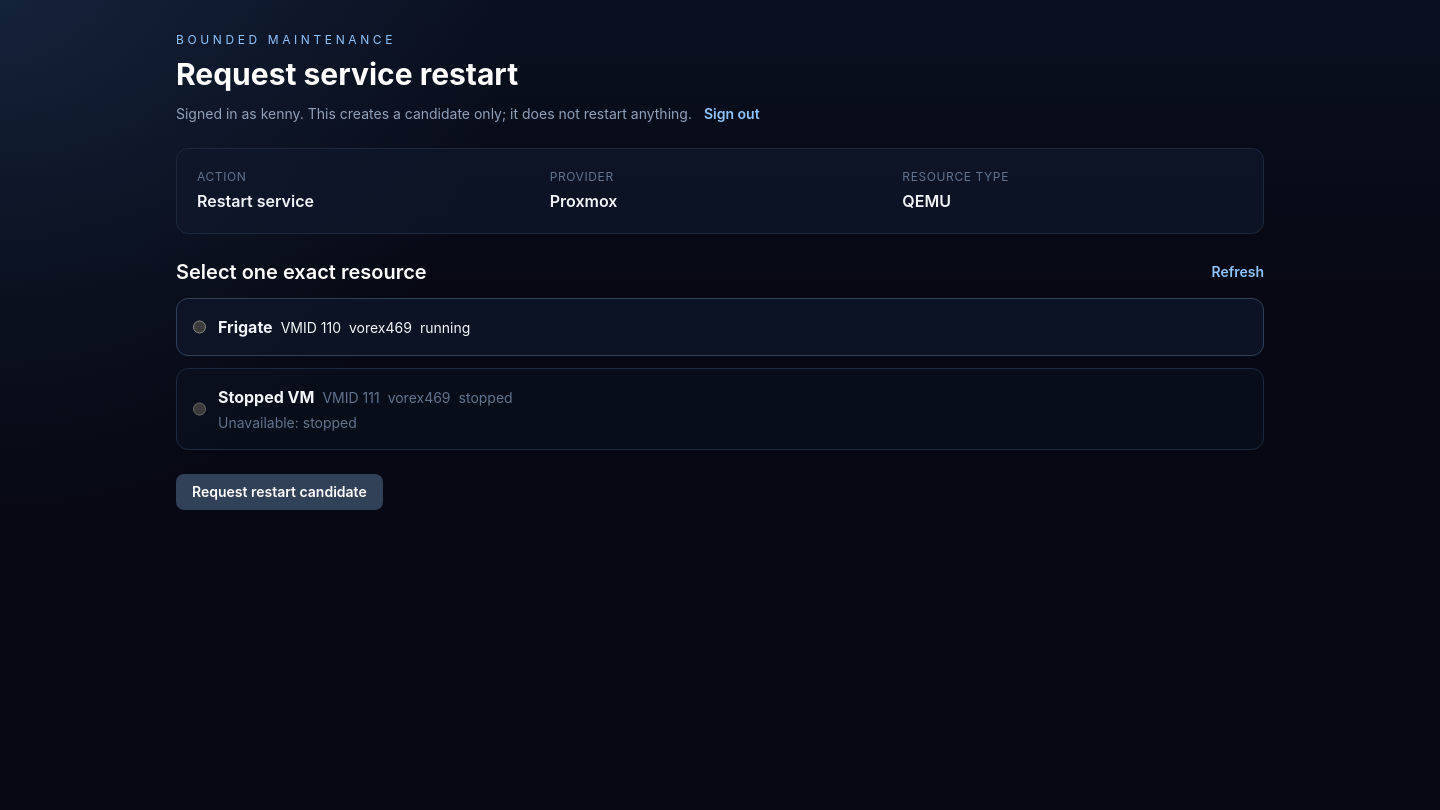
Test: MaintenanceRequestPage › renders controlled status 403 without automatic retry
What coordinates should you click on to do the following:
click the radio button labelled "Frigate"
I would click on:
 (200, 327)
Its box is [193,315,206,339].
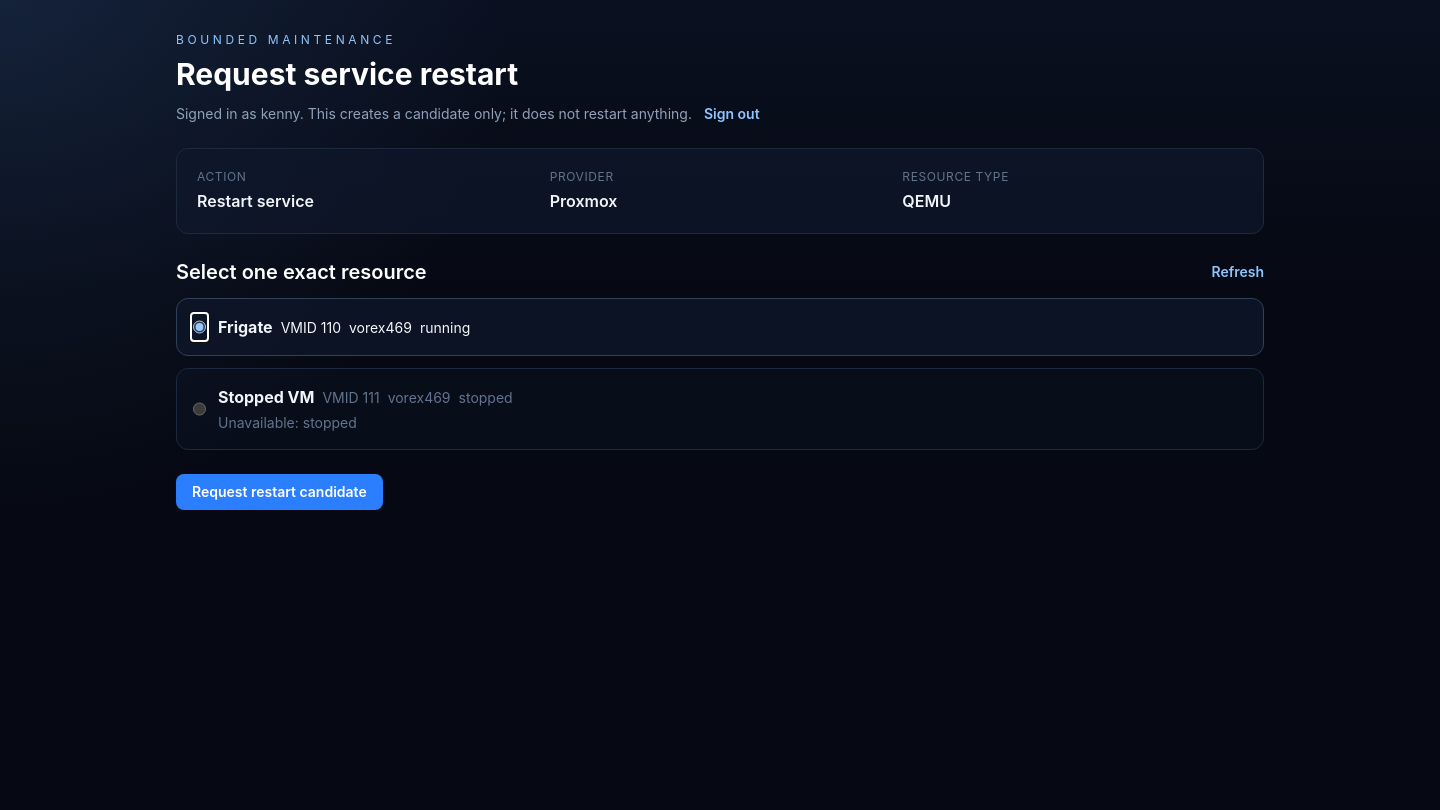
What coordinates should you click on to do the following:
click the button "Request restart candidate"
I would click on:
 (279, 492)
Its box is [176,474,383,510].
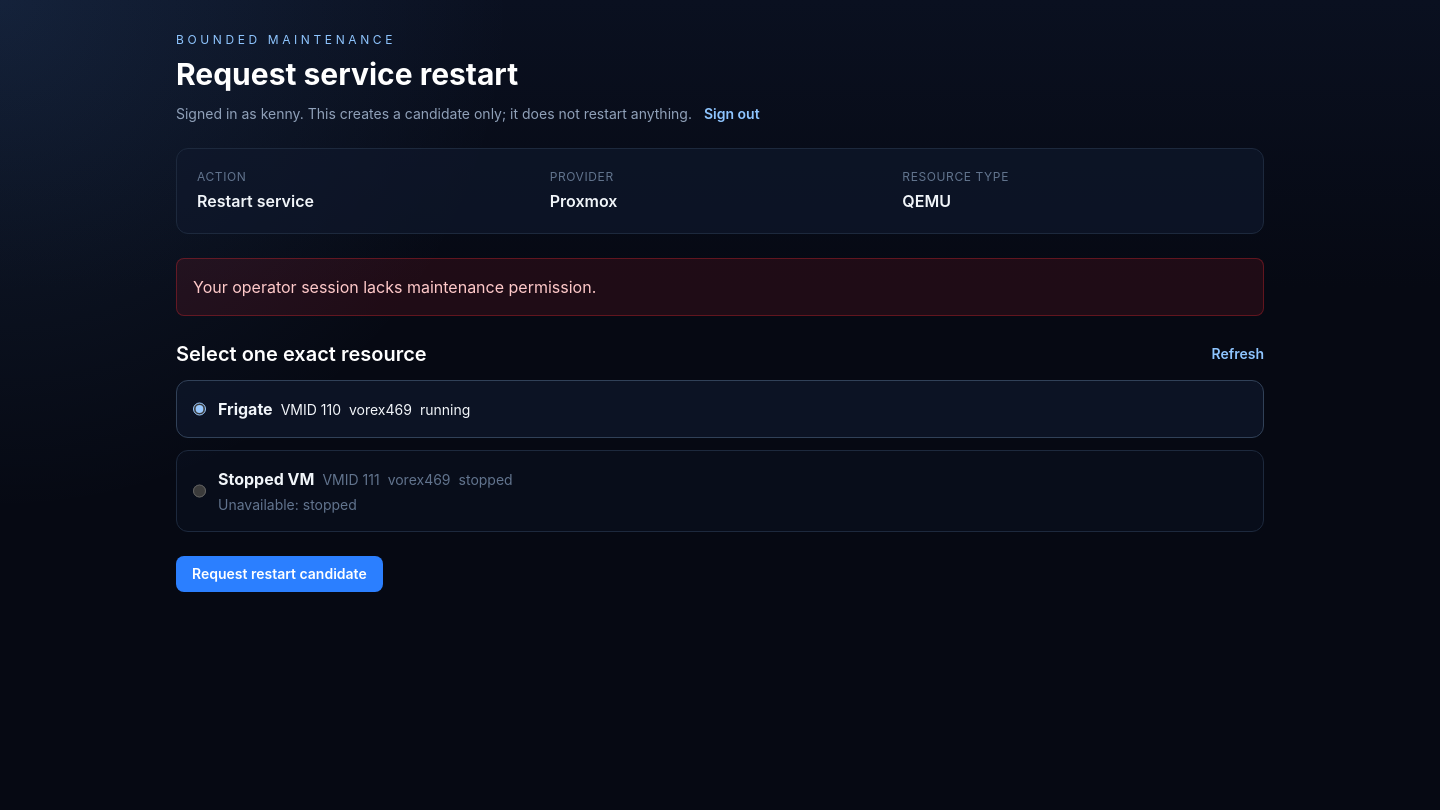
Expected: the message shows "lacks maintenance permission", [193,277,596,297]
